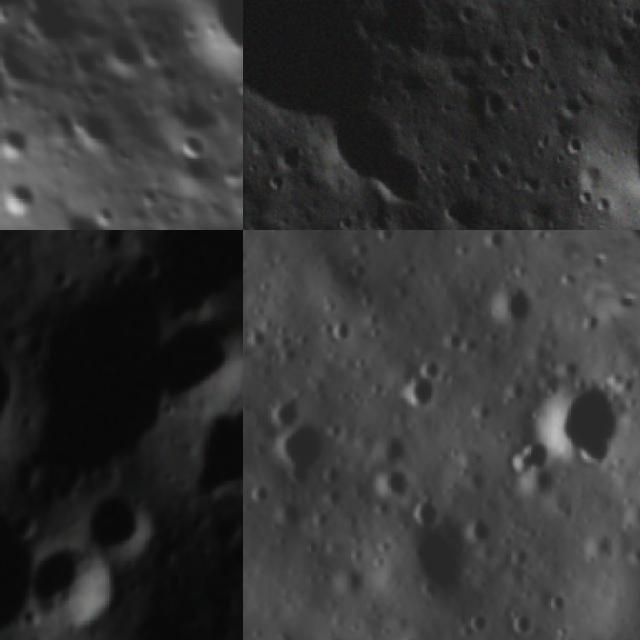crater: (501, 347, 640, 498), (384, 510, 498, 624), (151, 312, 243, 423), (26, 548, 126, 628), (257, 409, 346, 498), (5, 0, 107, 73), (165, 0, 243, 92), (476, 272, 556, 350), (187, 405, 243, 502), (360, 452, 437, 520), (82, 491, 156, 559), (386, 365, 457, 429), (37, 188, 143, 230), (0, 156, 54, 230), (163, 121, 221, 179), (0, 104, 44, 173), (473, 30, 516, 72), (595, 32, 634, 70), (474, 82, 509, 122), (555, 94, 595, 128), (243, 259, 259, 339), (129, 250, 164, 285), (133, 212, 199, 230), (259, 167, 293, 200), (544, 8, 578, 40), (97, 230, 134, 256), (437, 200, 461, 230), (558, 135, 588, 158), (588, 197, 618, 219), (574, 184, 598, 210)
